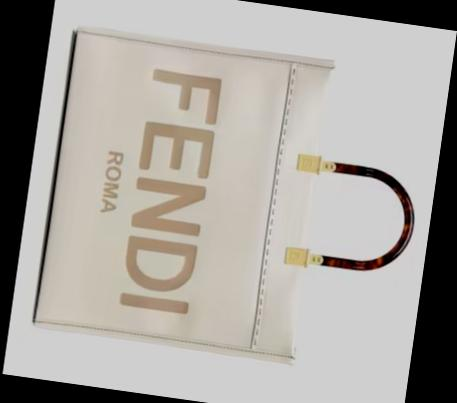FENDI: (117, 66, 222, 313)
